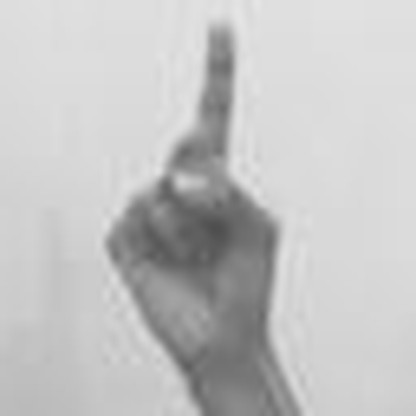d: (97, 7, 299, 355)
